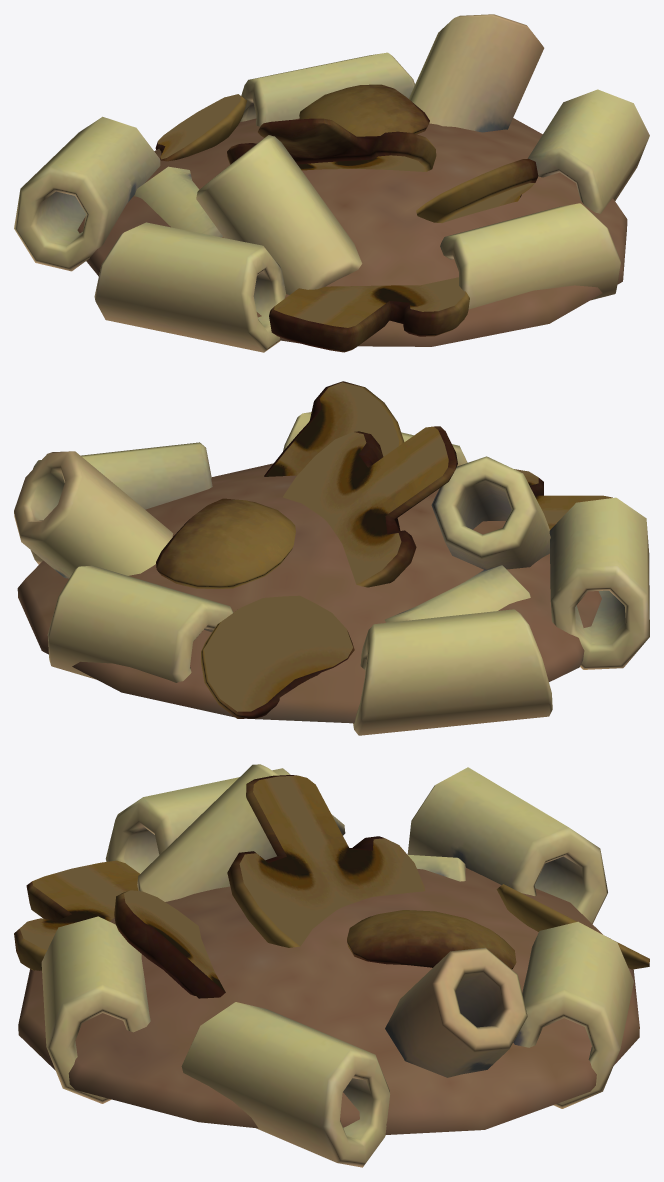
File: Mushroom_Pasta.fbx
The picture shows the model from 3 angles, top to bottom: view 1: azimuth 30°, elevation 25°; view 2: azimuth 150°, elevation 25°; view 3: azimuth 270°, elevation 25°; orthographic projection. The views are drawn at different scales.
Parts seen in each view (by area): view 1: recipe_mushroom_pasta_01; view 2: recipe_mushroom_pasta_01; view 3: recipe_mushroom_pasta_01.
Part boxes in pixels (box(x1,y1,x2,y2)): recipe_mushroom_pasta_01: box(14, 14, 649, 352); recipe_mushroom_pasta_01: box(14, 381, 649, 735); recipe_mushroom_pasta_01: box(14, 764, 649, 1167).
Size of the model in its own units: 102 by 33.12 by 85.73.
